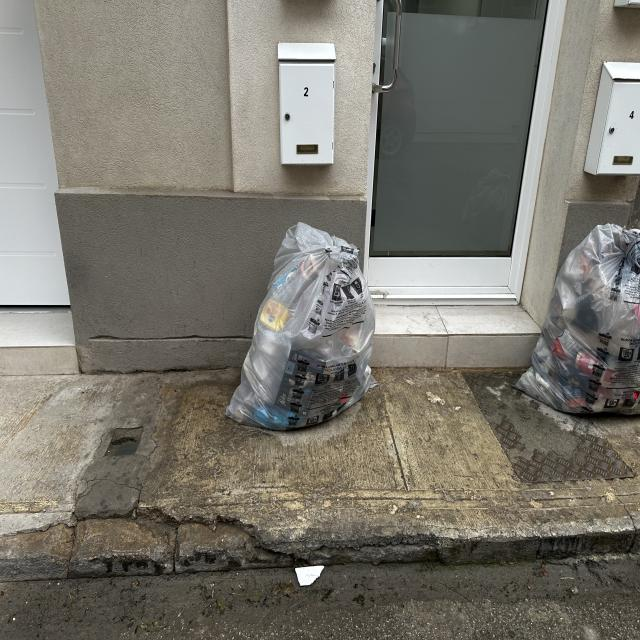Recyclable Material -Grey Bags-: (225, 221, 381, 431)
